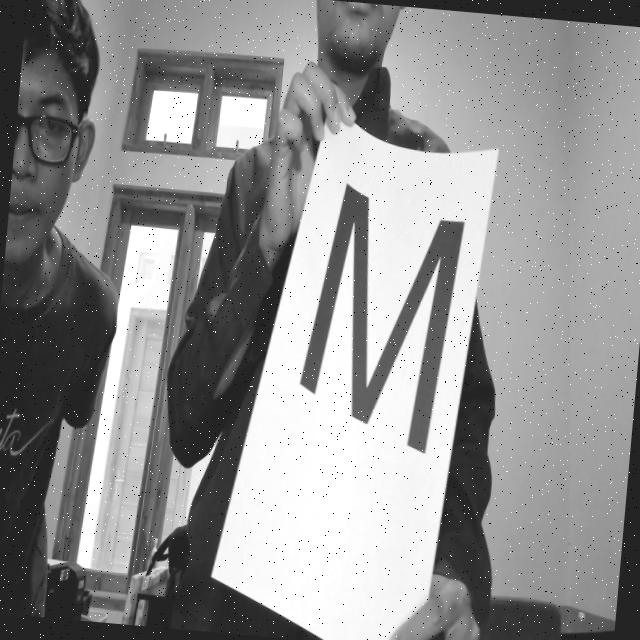m: (282, 173, 480, 469)
